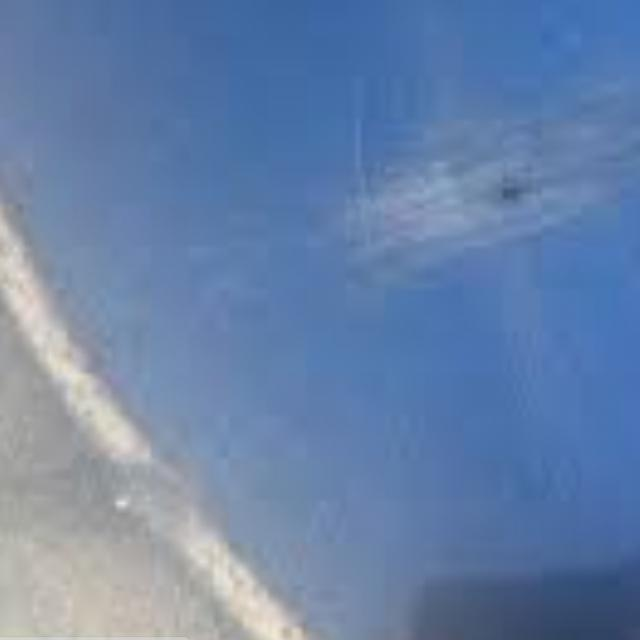dents: (454, 159, 566, 230)
